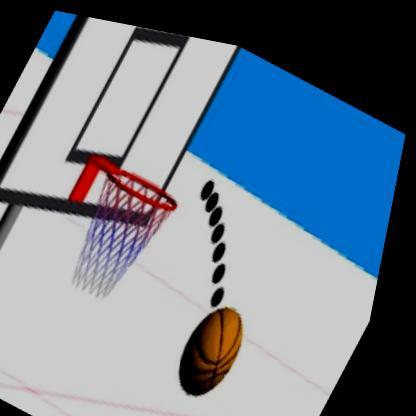basketball: (173, 278, 272, 406)
rim: (105, 153, 193, 214)
